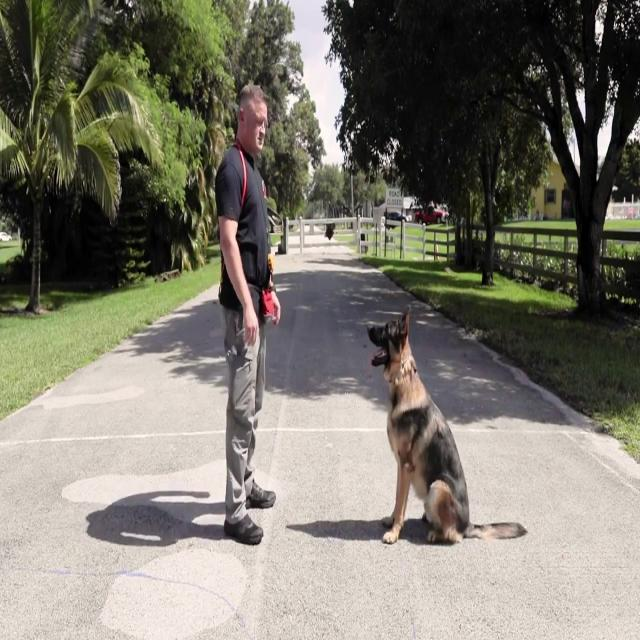Unleashed_Dog: (228, 302, 530, 545)
